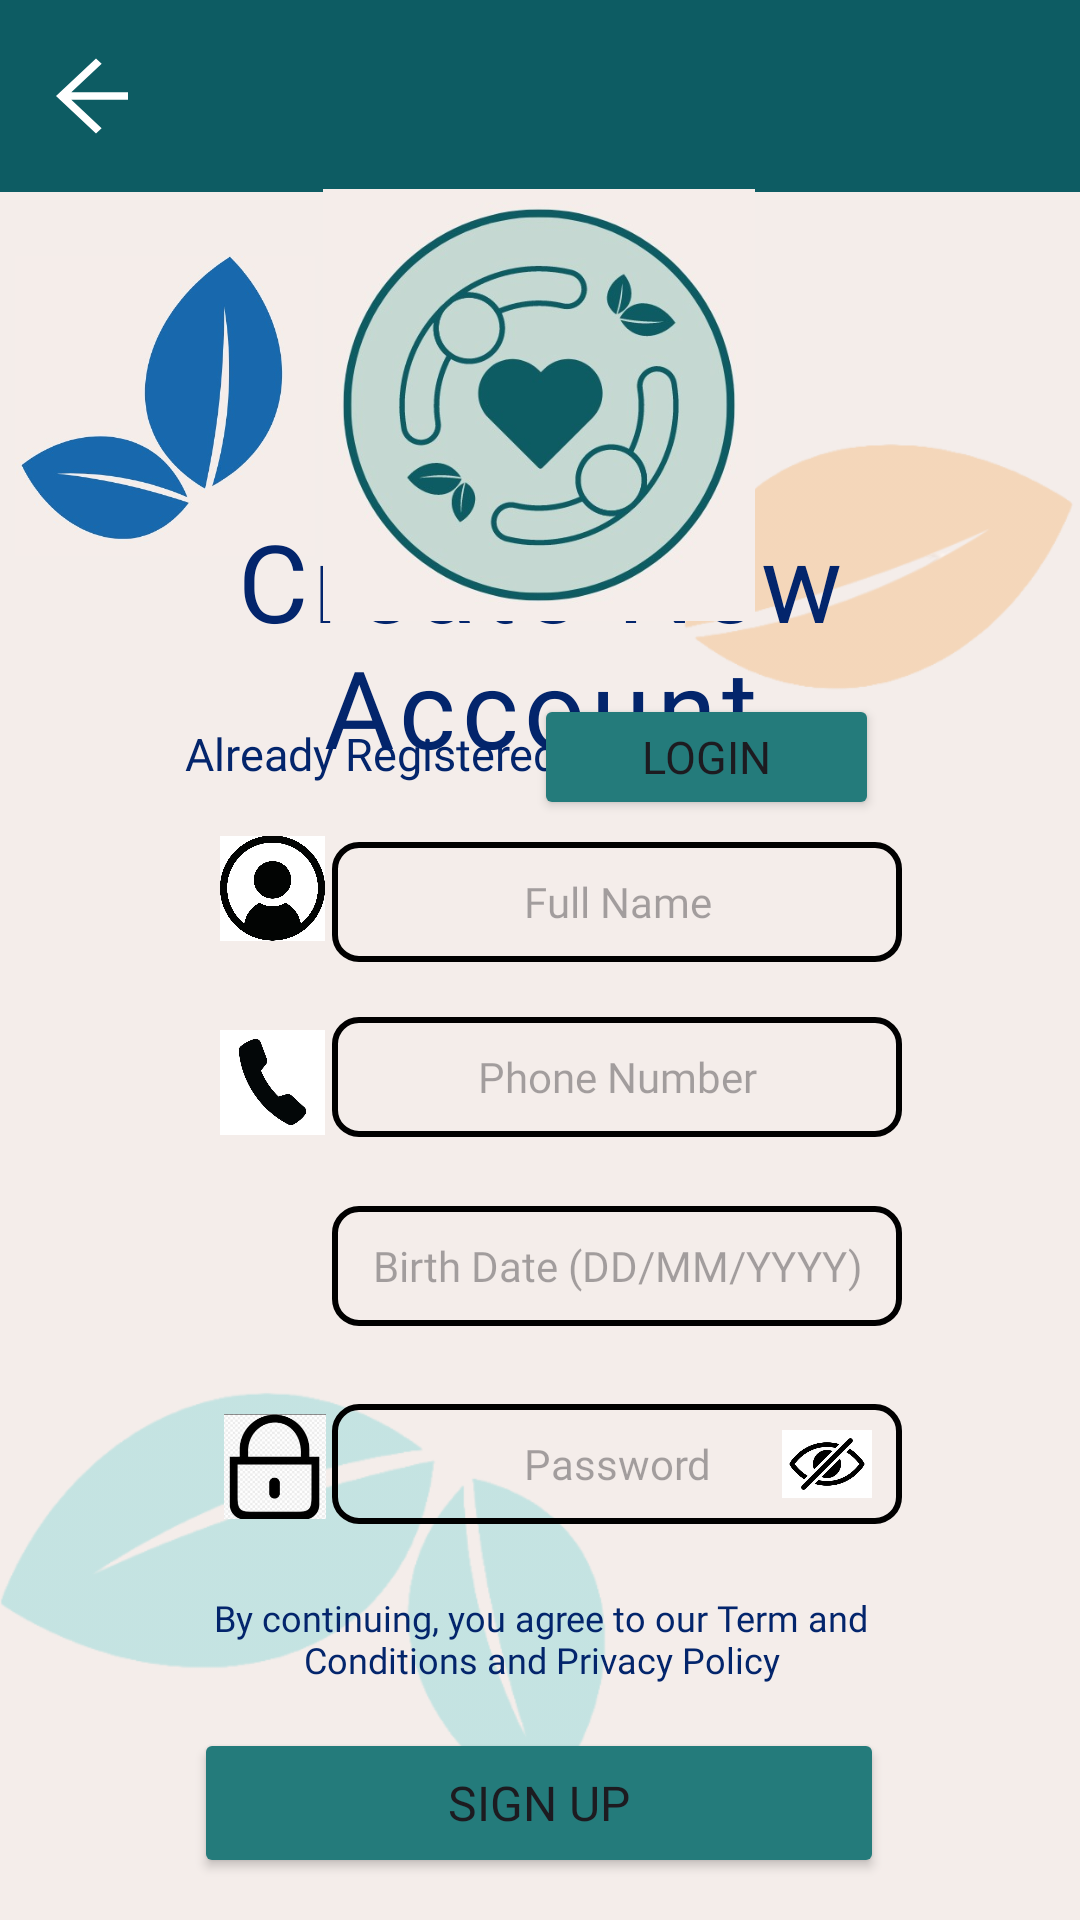

Icons on this 1080px x 1920px Android screen, each with the point to tap as (x=x, y=y):
Back: (x=92, y=96)
hide: (x=827, y=1464)
person: (x=272, y=888)
